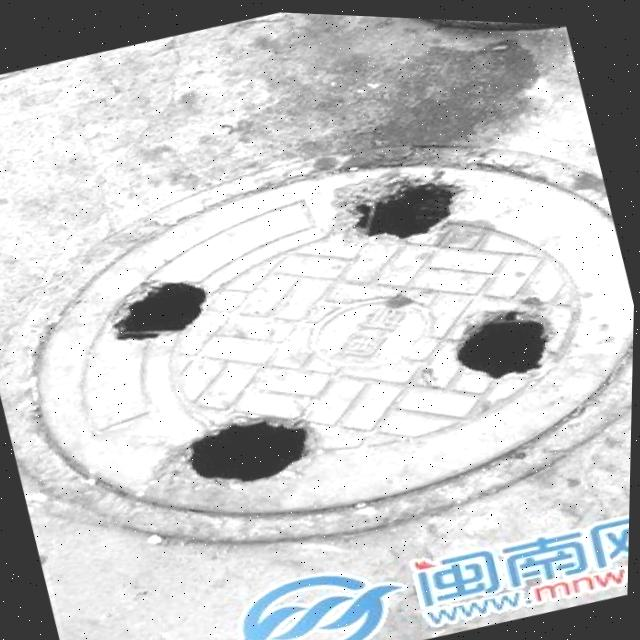manhole: (0, 78, 639, 609)
